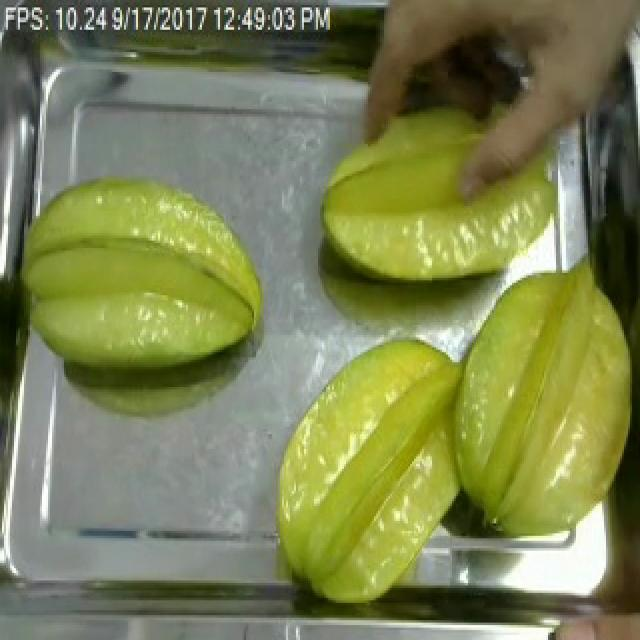fruit: (430, 253, 640, 561), (260, 325, 480, 615), (6, 162, 274, 394), (304, 87, 574, 295), (362, 0, 640, 119)
